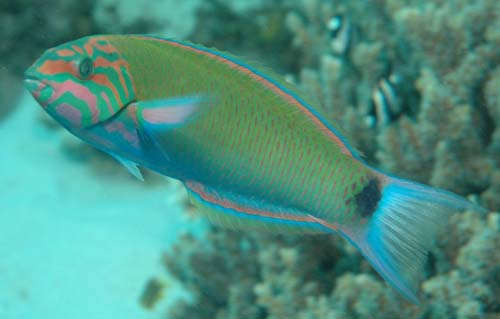fish: (24, 33, 489, 307)
